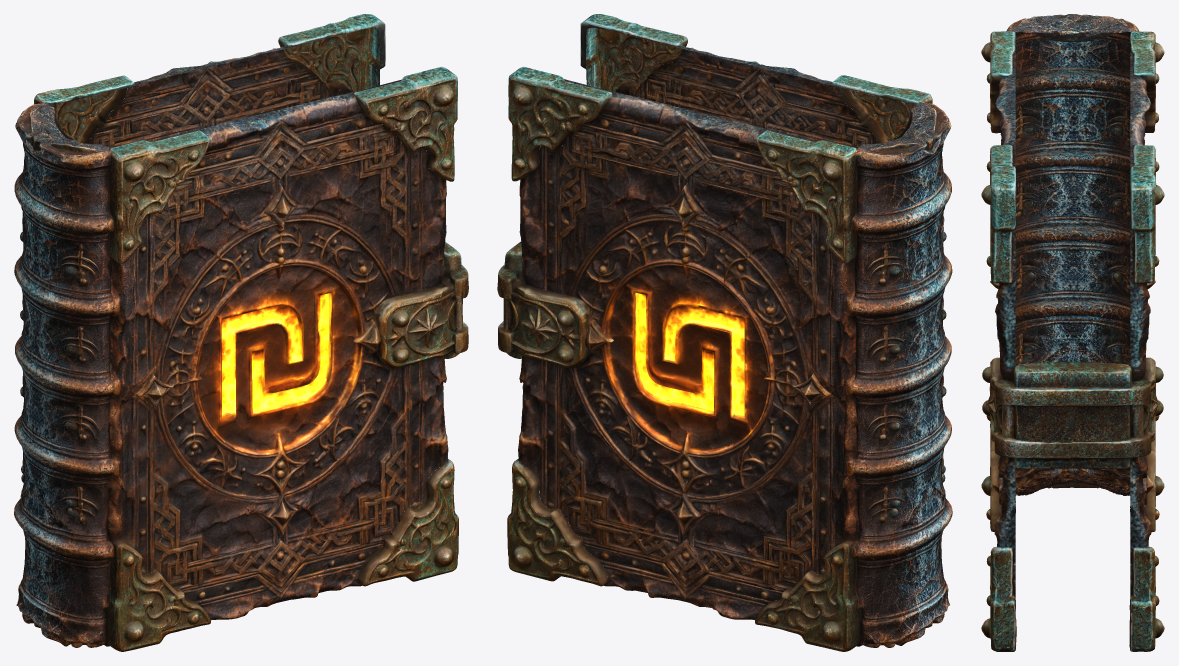
Rendered from book.glb.
3 views of the same model, side by side, from view 1: azimuth 30°, elevation 25°; view 2: azimuth 150°, elevation 25°; view 3: azimuth 270°, elevation 25° (orthographic). The views are drawn at different scales.
Visible parts, largest first — view 1: cover_front, spine, cover_back, latch, f_part10, f_part7, f_part6, f_part9, b_part4, b_part3; view 2: cover_back, spine, cover_front, b_part3, clasp_back, b_part4, b_part5, b_part8, f_part7, f_part10; view 3: spine, latch, cover_front, cover_back, f_part7, b_part4, b_part5, f_part6, clasp_back, f_part10, b_part3, b_part8 (+1 smaller).
Boxes of the visible parts, box(x1,y1,x2,y2) form: cover_front: box(105, 79, 448, 646); spine: box(14, 103, 136, 647); cover_back: box(48, 34, 379, 373); latch: box(362, 242, 468, 368); f_part10: box(109, 130, 210, 263); f_part7: box(353, 66, 457, 181); f_part6: box(356, 459, 458, 586); f_part9: box(105, 540, 210, 651); b_part4: box(278, 14, 385, 93); b_part3: box(34, 75, 134, 143); cover_back: box(518, 79, 861, 646); spine: box(828, 102, 952, 647); cover_front: box(586, 34, 918, 420); b_part3: box(755, 130, 857, 263); clasp_back: box(497, 268, 603, 368); b_part4: box(508, 67, 612, 181); b_part5: box(507, 459, 608, 586); b_part8: box(755, 540, 861, 651); f_part7: box(580, 14, 687, 93); f_part10: box(831, 75, 932, 143); spine: box(999, 14, 1146, 495); latch: box(982, 357, 1132, 468); cover_front: box(992, 32, 1015, 598); cover_back: box(1130, 32, 1153, 598); f_part7: box(981, 145, 1016, 283); b_part4: box(1129, 145, 1164, 283); b_part5: box(1129, 546, 1164, 651); f_part6: box(981, 546, 1016, 651); clasp_back: box(1132, 357, 1163, 457); f_part10: box(981, 31, 1015, 133); b_part3: box(1130, 31, 1164, 132); b_part8: box(1130, 415, 1164, 532).
Size of the model in its own units: 0.8309 by 0.9779 by 0.3442.
13 materials, 13 textured.
